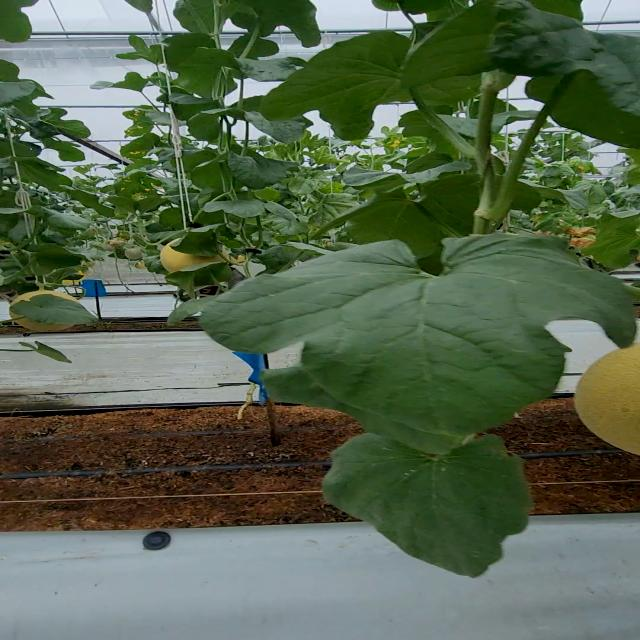Melon: (570, 349, 640, 456)
